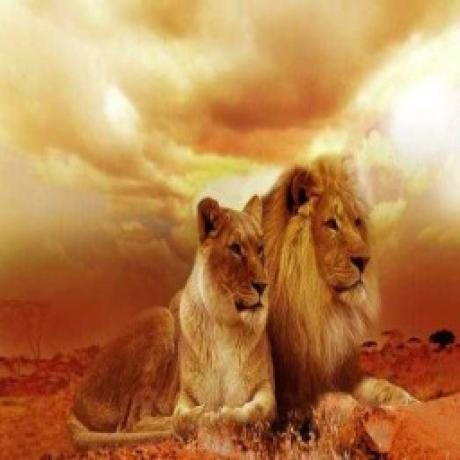Lion: (63, 190, 275, 436), (261, 153, 369, 402)
